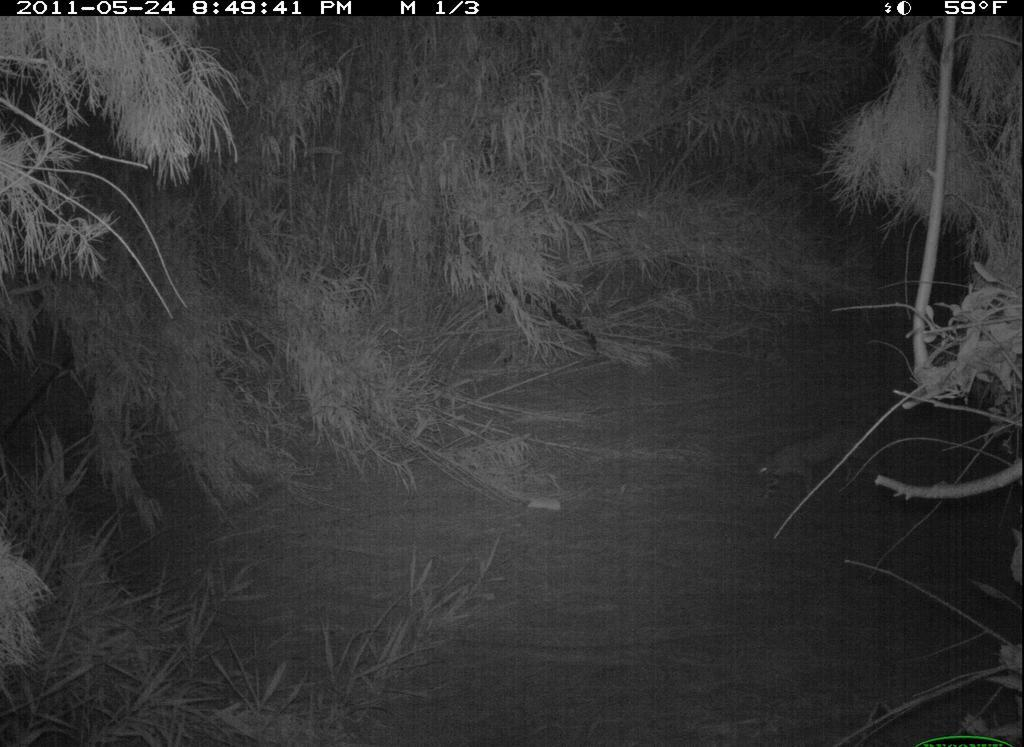bobcat: (748, 420, 886, 509)
